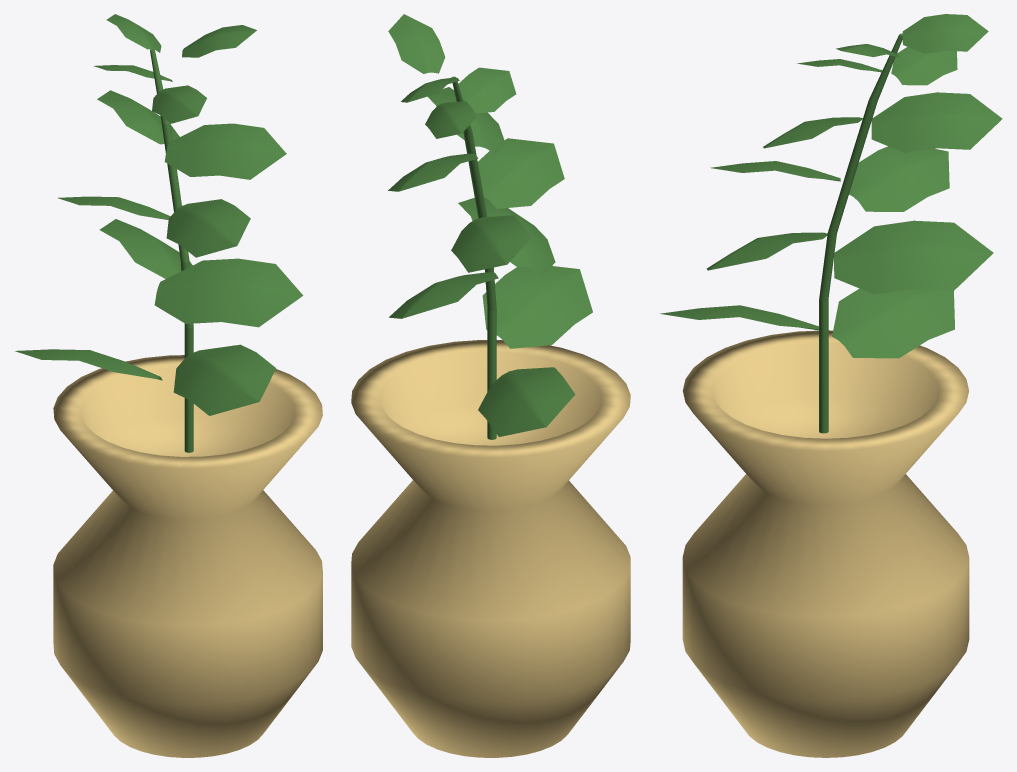
The model's file is Plant.fbx.
The picture shows the model from 3 angles, left to right: view 1: azimuth 30°, elevation 25°; view 2: azimuth 150°, elevation 25°; view 3: azimuth 270°, elevation 25°; orthographic projection. The views are drawn at different scales.
Parts seen in each view (by area): view 1: Cylinder.007, Plane.018, Plane.011, Plane.016, Plane.009, Plane.012, Cylinder.008, Plane.010, Plane.017, Plane.007, Plane.014, Plane.015 (+1 smaller); view 2: Cylinder.007, Plane.011, Plane.017, Plane.009, Plane.015, Cylinder.008, Plane.014, Plane.012, Plane.007, Plane.018, Plane.013, Plane.016 (+2 smaller); view 3: Cylinder.007, Plane.012, Plane.017, Plane.010, Plane.015, Cylinder.008, Plane.008, Plane.013, Plane.018, Plane.011, Plane.016, Plane.009.
Boxes of the visible parts, left/top/right/bottom form: Cylinder.007: left=53, top=355, right=322, bottom=757; Plane.018: left=154, top=258, right=303, bottom=327; Plane.011: left=173, top=344, right=276, bottom=415; Plane.016: left=164, top=123, right=286, bottom=179; Plane.009: left=166, top=199, right=250, bottom=257; Plane.012: left=99, top=219, right=192, bottom=278; Cylinder.008: left=150, top=49, right=193, bottom=452; Plane.010: left=97, top=90, right=179, bottom=144; Plane.017: left=15, top=349, right=162, bottom=380; Plane.007: left=152, top=85, right=206, bottom=123; Plane.014: left=182, top=25, right=256, bottom=57; Plane.015: left=58, top=196, right=170, bottom=219; Cylinder.007: left=351, top=340, right=630, bottom=757; Plane.011: left=482, top=266, right=592, bottom=348; Plane.017: left=478, top=367, right=575, bottom=436; Plane.009: left=478, top=138, right=564, bottom=208; Plane.015: left=451, top=215, right=530, bottom=272; Cylinder.008: left=451, top=76, right=496, bottom=439; Plane.014: left=388, top=14, right=445, bottom=73; Plane.012: left=389, top=272, right=498, bottom=318; Plane.007: left=458, top=67, right=516, bottom=113; Plane.018: left=458, top=196, right=555, bottom=275; Plane.013: left=425, top=101, right=477, bottom=138; Plane.016: left=427, top=87, right=505, bottom=153; Cylinder.007: left=682, top=330, right=969, bottom=757; Plane.012: left=834, top=220, right=993, bottom=294; Plane.017: left=832, top=288, right=954, bottom=358; Plane.010: left=871, top=92, right=1002, bottom=152; Plane.015: left=849, top=146, right=949, bottom=211; Cylinder.008: left=819, top=33, right=903, bottom=433; Plane.008: left=902, top=14, right=988, bottom=53; Plane.013: left=891, top=47, right=957, bottom=85; Plane.018: left=706, top=232, right=827, bottom=270; Plane.011: left=660, top=305, right=818, bottom=330; Plane.016: left=763, top=117, right=862, bottom=148; Plane.009: left=710, top=161, right=840, bottom=181.
Size of the model in its own units: 157 by 430 by 188.
